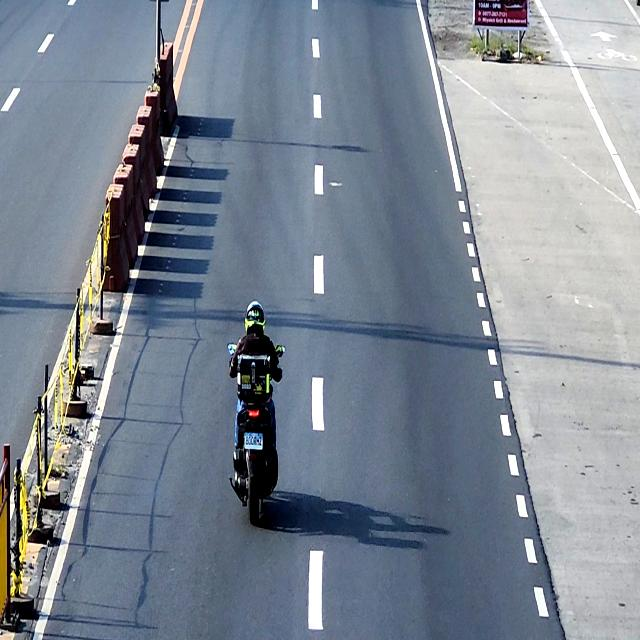License-Plate: (244, 432, 264, 452)
Motorcycle: (228, 340, 287, 525)
